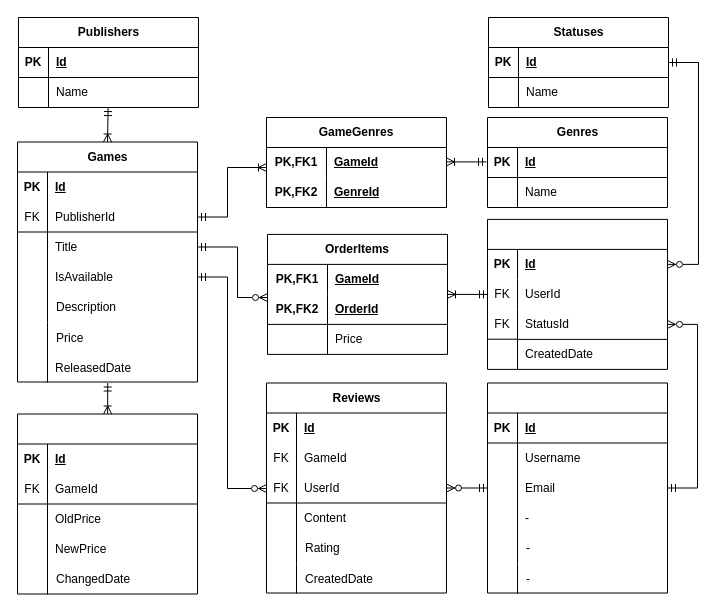
Image size: 725x612. Some labels were removed from this diagram. Here are the shapes that lost their labels. From the top down, the box of each, then its label:
(486, 218, 668, 369): Orders
(16, 413, 198, 594): PriceHistories
(486, 382, 668, 593): Users
